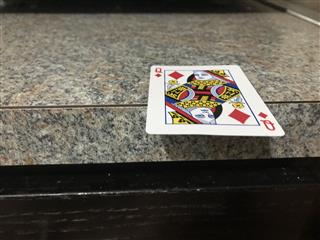QueenOfDiamonds: (144, 64, 285, 137)
